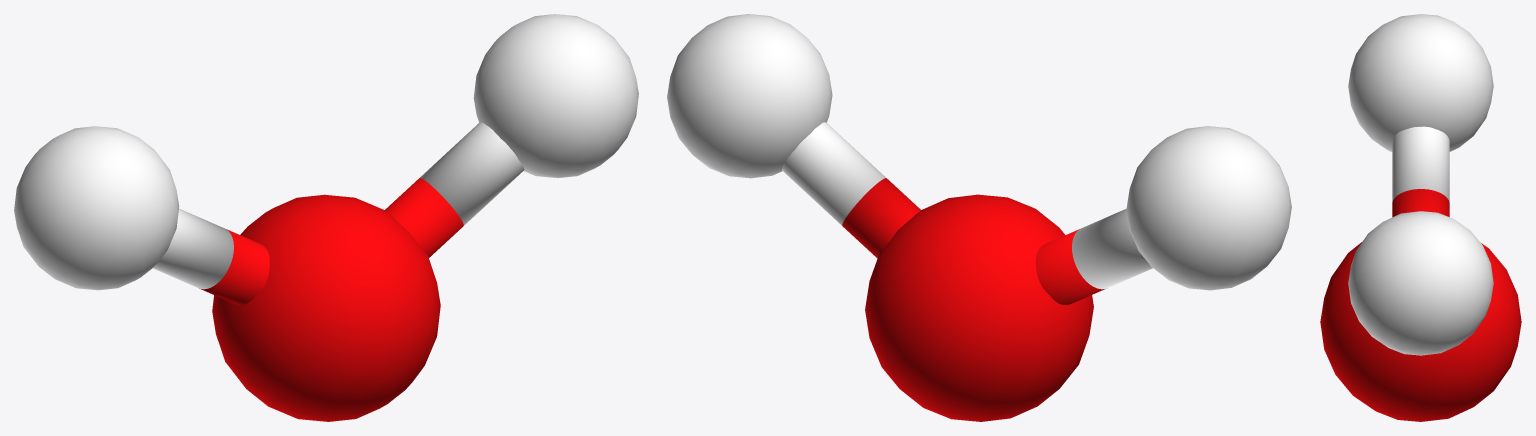
The model's file is asset.glb.
3 renders of one model, left to right at view 1: azimuth 30°, elevation 25°; view 2: azimuth 150°, elevation 25°; view 3: azimuth 270°, elevation 25°, orthographic. The views are drawn at different scales.
Parts seen in each view (by area): view 1: Shape_IndexedFaceSet.002; view 2: Shape_IndexedFaceSet.002; view 3: Shape_IndexedFaceSet.002.
Boxes of the visible parts, bbox=[...] form: Shape_IndexedFaceSet.002: bbox=[14, 14, 638, 421]; Shape_IndexedFaceSet.002: bbox=[667, 14, 1291, 421]; Shape_IndexedFaceSet.002: bbox=[1320, 14, 1521, 421].
Bounding box in the file's own units: 21.28 × 11.3 × 7.
